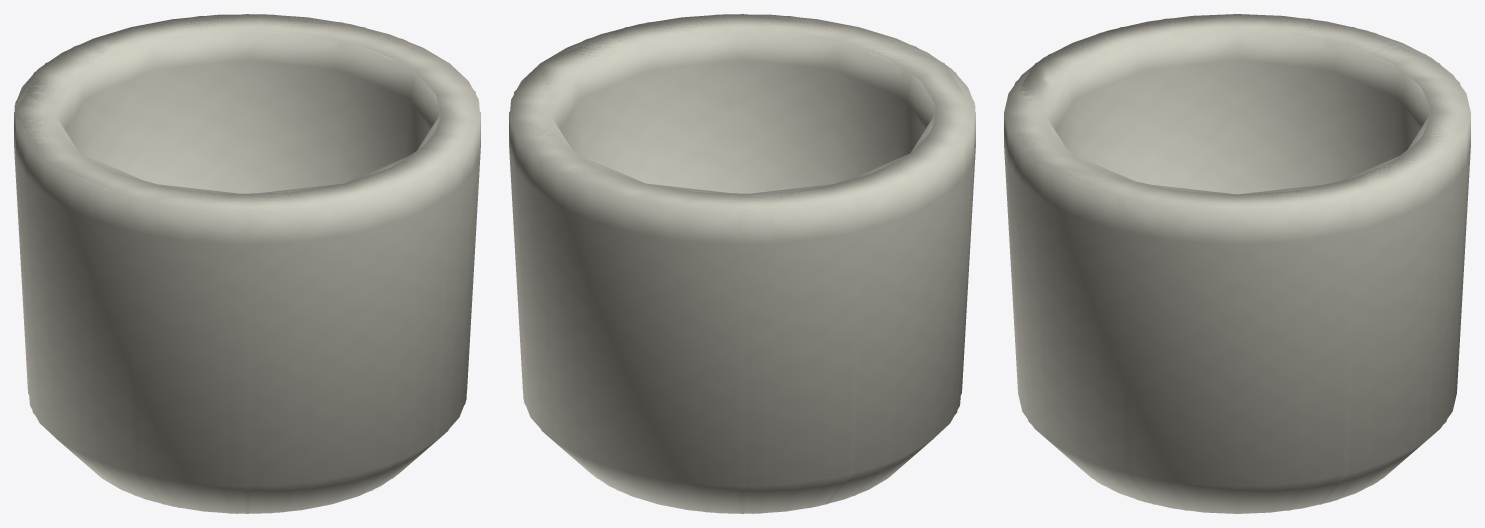
The model's file is MV_Planter_Round_Small.fbx.
The picture shows the model from 3 angles, left to right: view 1: azimuth 30°, elevation 25°; view 2: azimuth 150°, elevation 25°; view 3: azimuth 270°, elevation 25°; orthographic projection.
Parts seen in each view (by area): view 1: LOD0_Mesh, LOD2_Mesh, LOD1_Mesh; view 2: LOD0_Mesh, LOD2_Mesh, LOD1_Mesh; view 3: LOD0_Mesh, LOD2_Mesh, LOD1_Mesh.
Boxes of the visible parts, x1,y1,x2,y2 form: LOD0_Mesh: (14,14,480,513); LOD2_Mesh: (14,14,480,513); LOD1_Mesh: (15,14,479,513); LOD0_Mesh: (509,14,975,513); LOD2_Mesh: (509,14,975,513); LOD1_Mesh: (510,14,974,513); LOD0_Mesh: (1004,14,1470,513); LOD2_Mesh: (1006,14,1470,504); LOD1_Mesh: (1004,14,1469,510).
Bounding box in the file's own units: 0.41 × 0.32 × 0.41.
